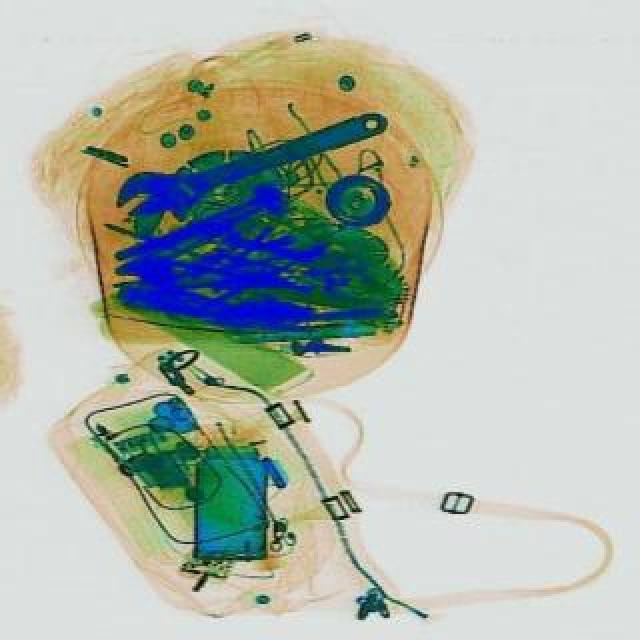scissors: (110, 86, 398, 238)
